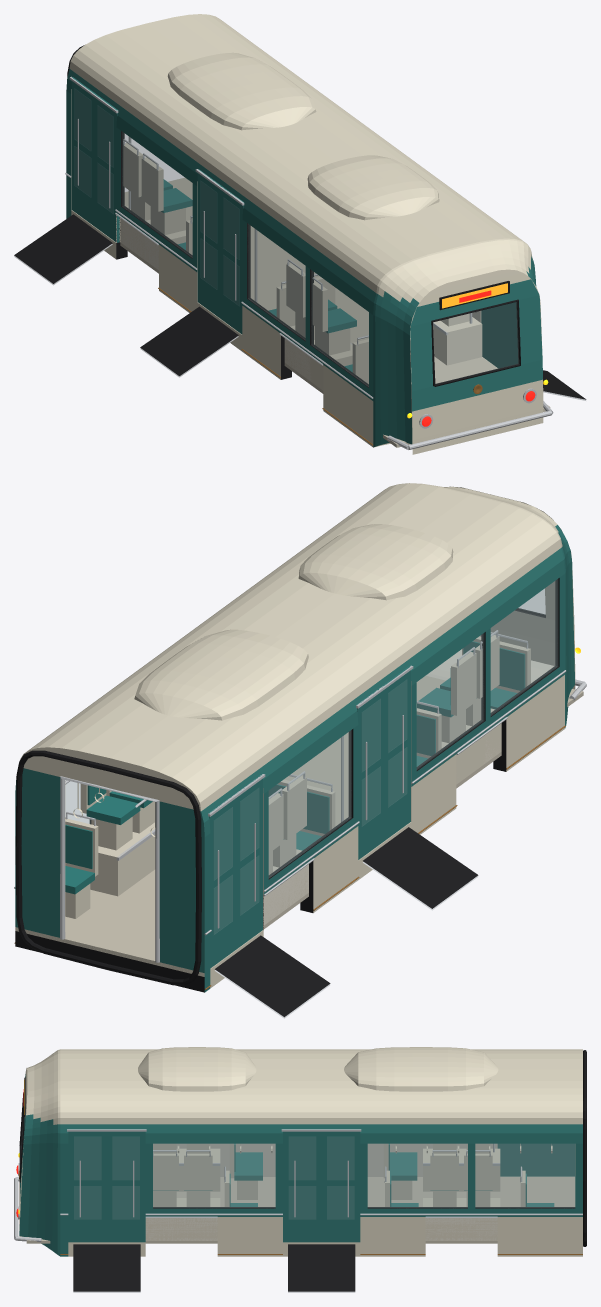
File: carrow_tram_rear.glb
3 renders of one model, top to bottom at view 1: azimuth 30°, elevation 25°; view 2: azimuth 150°, elevation 25°; view 3: azimuth 270°, elevation 25°, orthographic. The views are drawn at different scales.
Visible parts, largest first — view 1: tail, fairings, side_L_0, roof_5, roof_0, roof_2, side_L_1, glass_L_1_0, roof_3, glass_rearwindow, floor, glass_L_0_0 (+31 smaller); view 2: endwall_F, fairings, side_L_0, roof_5, roof_0, roof_2, floor, side_L_1, glass_L_1_0, roof_3, glass_L_0_1, glass_L_0_0 (+36 smaller); view 3: side_R_2, fairings, glass_R_1_0, tail, side_R_1, roof_5, roof_0, glass_R_2_0, glass_R_2_1, roof_2, floor, door_R0_a (+40 smaller).
Part boxes in pixels (<box>): tail: <box>373,238,553,454</box>; fairings: <box>167,52,439,220</box>; side_L_0: <box>241,198,376,447</box>; roof_5: <box>69,14,268,105</box>; roof_0: <box>325,201,525,292</box>; roof_2: <box>223,126,422,217</box>; side_L_1: <box>115,105,200,312</box>; glass_L_1_0: <box>122,132,192,257</box>; roof_3: <box>172,89,370,180</box>; glass_rearwindow: <box>433,302,518,383</box>; floor: <box>120,177,550,447</box>; glass_L_0_0: <box>311,270,368,386</box>; endwall_F: <box>15,747,204,992</box>; fairings: <box>134,524,453,720</box>; side_L_0: <box>408,548,566,834</box>; roof_5: <box>26,703,260,811</box>; roof_0: <box>326,483,561,591</box>; roof_2: <box>207,571,440,679</box>; floor: <box>25,676,583,975</box>; side_L_1: <box>260,699,359,912</box>; glass_L_1_0: <box>269,730,351,877</box>; roof_3: <box>145,615,380,723</box>; glass_L_0_1: <box>417,633,484,769</box>; glass_L_0_0: <box>491,579,558,715</box>; side_R_2: <box>360,1124,582,1256</box>; fairings: <box>138,1047,498,1091</box>; glass_R_1_0: <box>153,1144,275,1207</box>; tail: <box>14,1049,60,1256</box>; side_R_1: <box>145,1124,282,1256</box>; roof_5: <box>496,1049,582,1124</box>; roof_0: <box>60,1049,147,1124</box>; glass_R_2_0: <box>368,1144,467,1207</box>; glass_R_2_1: <box>475,1144,574,1207</box>; roof_2: <box>234,1049,321,1124</box>; floor: <box>26,1177,575,1243</box>; door_R0_a: <box>68,1129,107,1242</box>.
Size of the model in its own units: 4.45 by 3.1 by 9.21.
